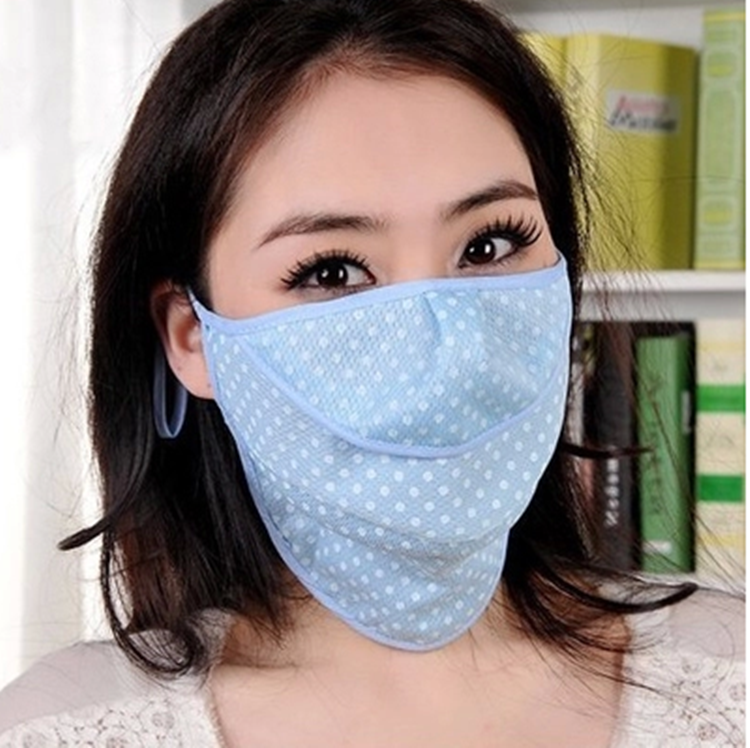face_mask: (217, 169, 568, 651)
